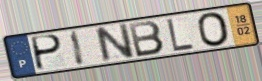B: (127, 19, 166, 59)
I: (69, 29, 87, 67)
L: (165, 17, 196, 52)
N: (93, 21, 137, 64)
O: (195, 11, 232, 48)
P: (31, 34, 64, 72)
